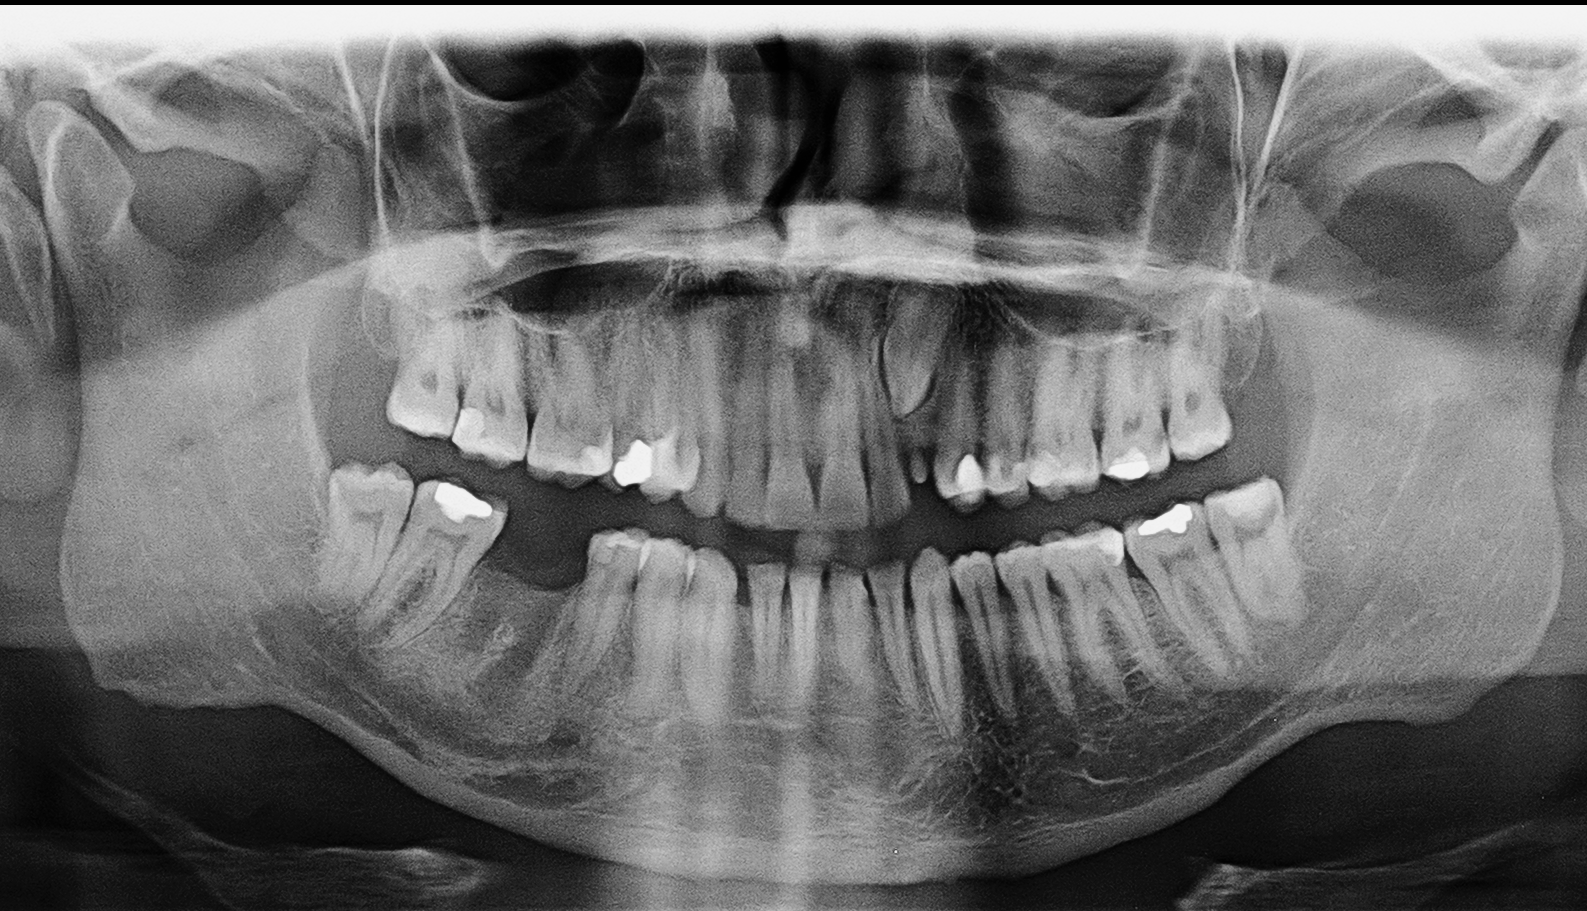cordal: (1197, 472, 1330, 644), (305, 446, 417, 620)
diastema: (727, 550, 761, 702)
diente_retenido: (863, 264, 960, 436)
zona_dentula: (484, 494, 593, 681)
